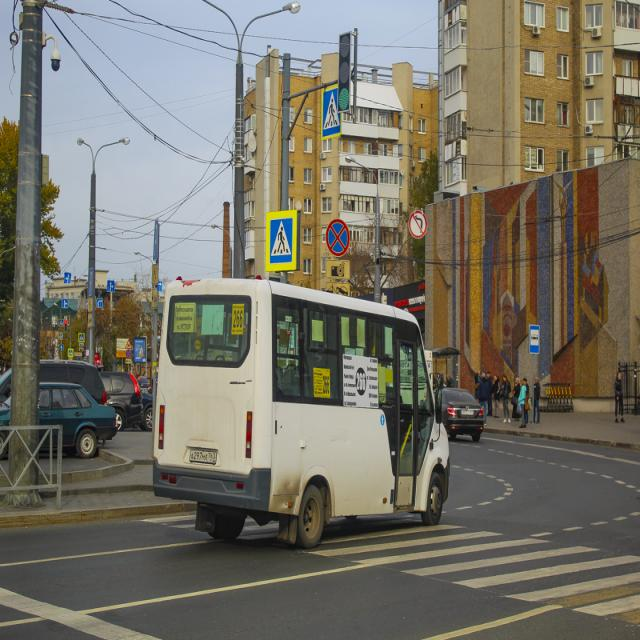number-of-bus: (356, 370, 368, 394), (324, 376, 331, 396)
